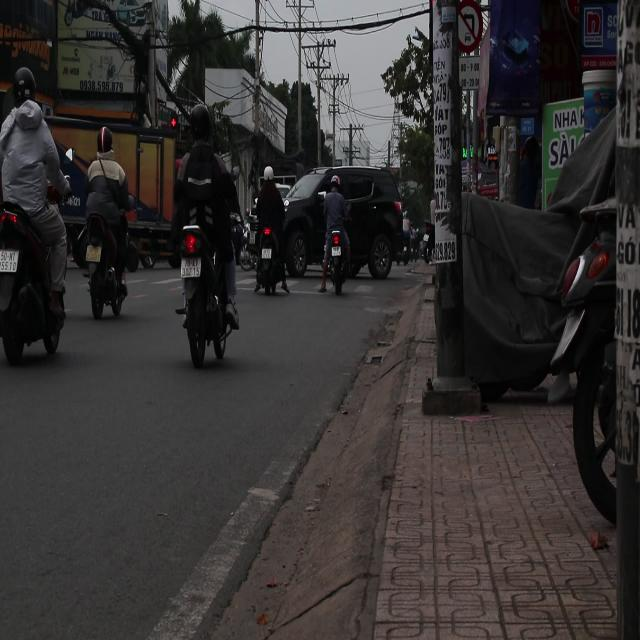car: (275, 164, 406, 286)
motorbike: (1, 187, 68, 366), (176, 215, 242, 368), (79, 212, 134, 319), (253, 219, 287, 309), (328, 217, 350, 308)
